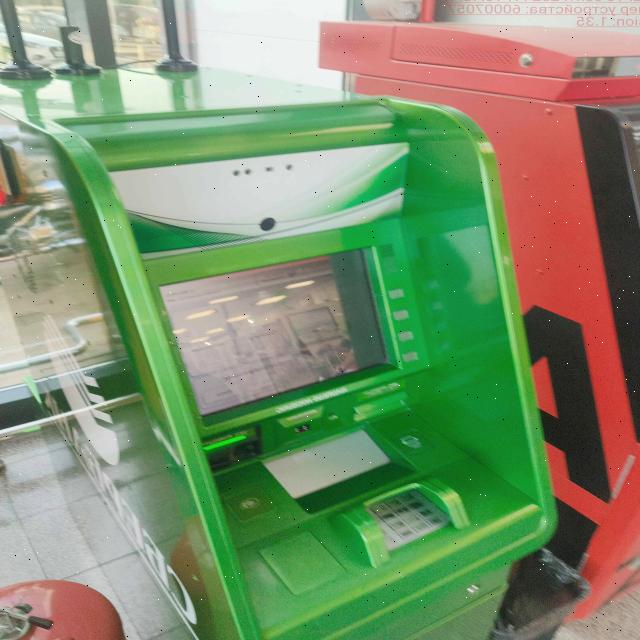bank: (0, 57, 555, 640)
